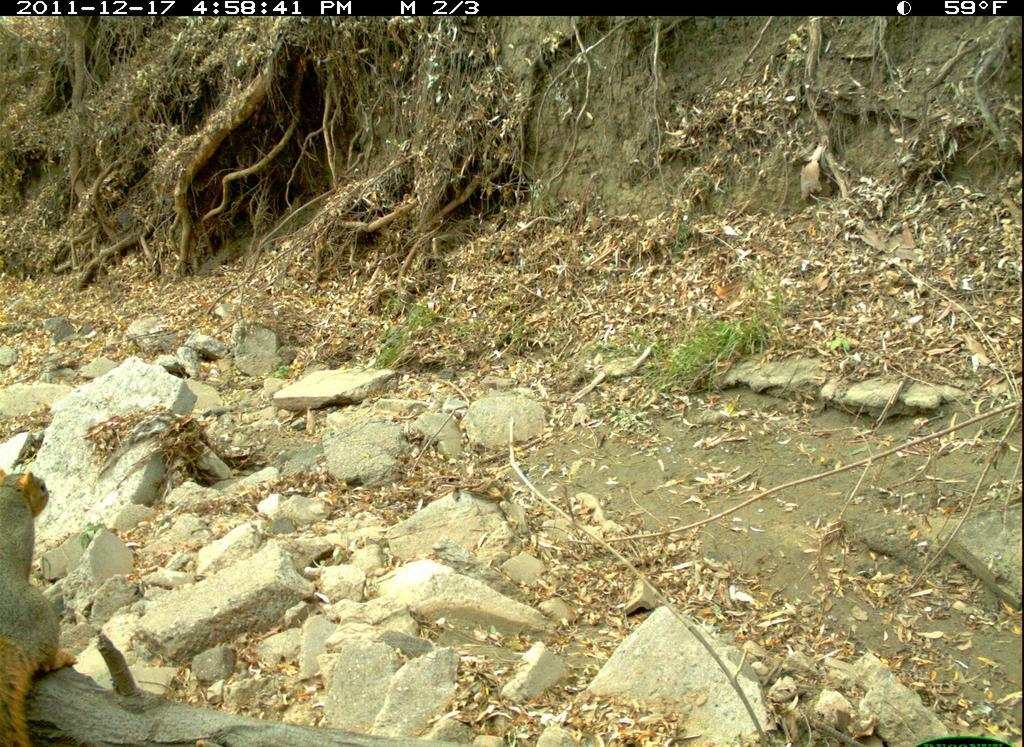squirrel: (2, 463, 86, 747)
